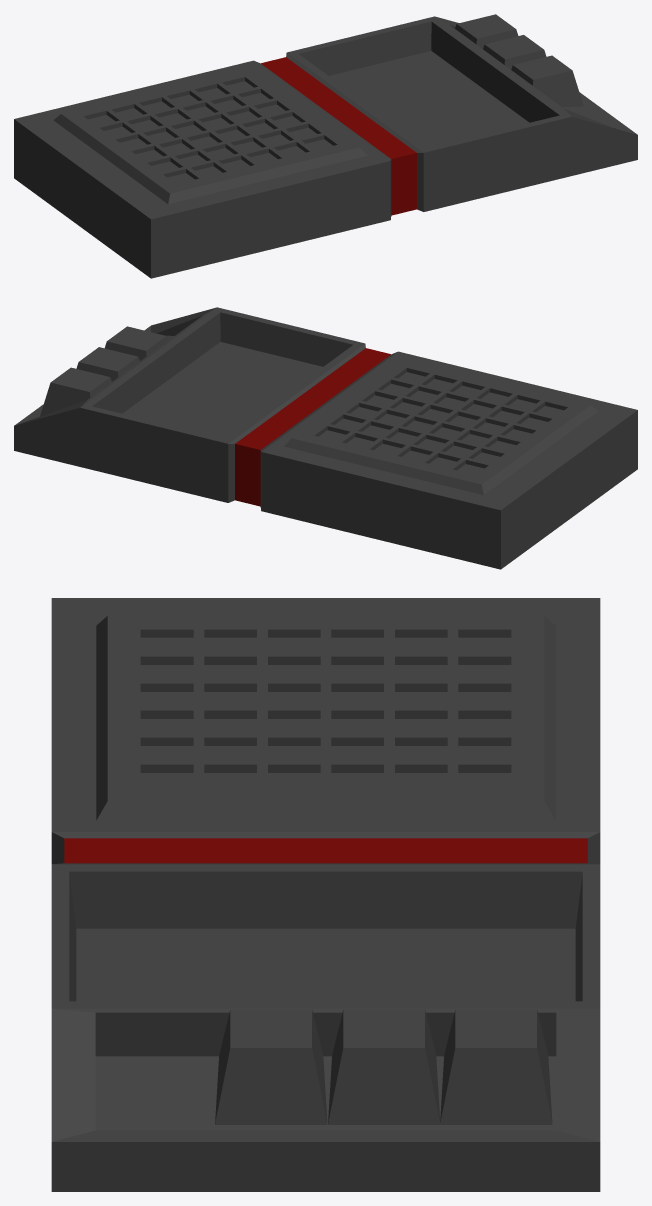
Rendered from cassette-player.fbx.
The picture shows the model from 3 angles, top to bottom: view 1: azimuth 30°, elevation 25°; view 2: azimuth 150°, elevation 25°; view 3: azimuth 270°, elevation 25°; orthographic projection. The views are drawn at different scales.
Visible parts, largest first — view 1: cassette-player; view 2: cassette-player; view 3: cassette-player.
Part boxes in pixels (x1=…): cassette-player: x1=14, y1=14, x2=637, y2=278; cassette-player: x1=14, y1=307, x2=637, y2=569; cassette-player: x1=51, y1=598, x2=600, y2=1191.
Size of the model in its own units: 410 by 53.66 by 200.
